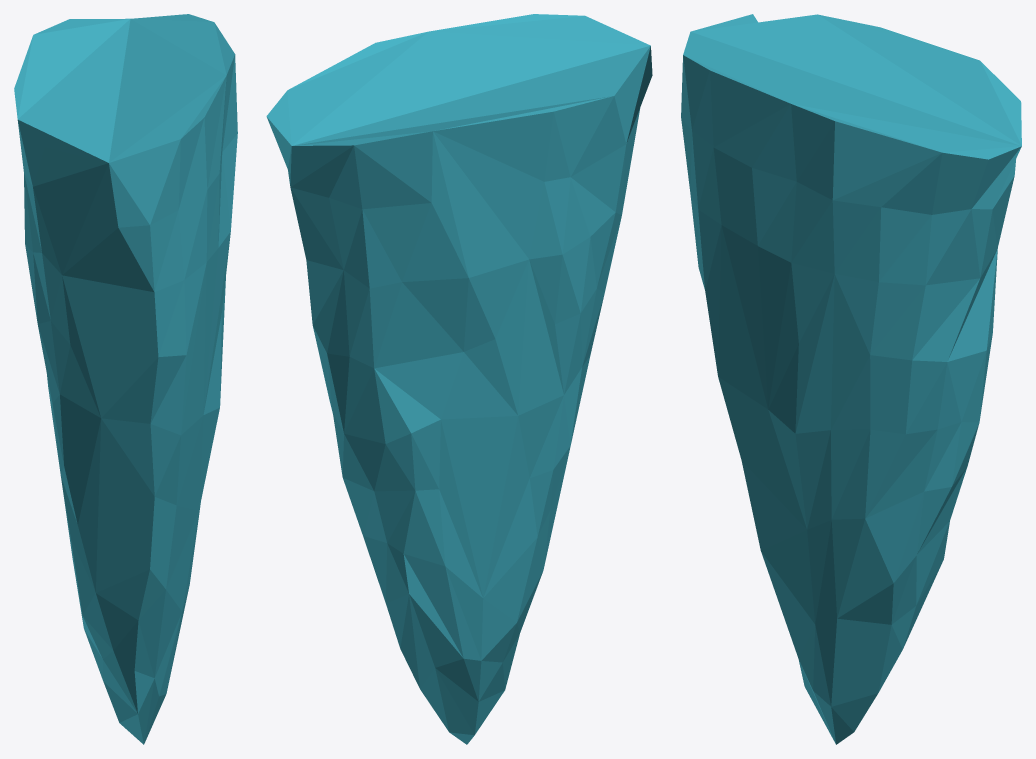
File: IceDecorationLargeIcicle1.fbx
3 views of the same model, side by side, from view 1: azimuth 30°, elevation 25°; view 2: azimuth 150°, elevation 25°; view 3: azimuth 270°, elevation 25° (orthographic).
Visible parts, largest first — view 1: IceDecorationLargeIcicle1; view 2: IceDecorationLargeIcicle1; view 3: IceDecorationLargeIcicle1.
Boxes of the visible parts, left/top/right/bottom form: IceDecorationLargeIcicle1: left=14, top=14, right=237, bottom=744; IceDecorationLargeIcicle1: left=266, top=14, right=652, bottom=744; IceDecorationLargeIcicle1: left=681, top=14, right=1021, bottom=744.
Size of the model in its own units: 1015 by 2471 by 1134.
